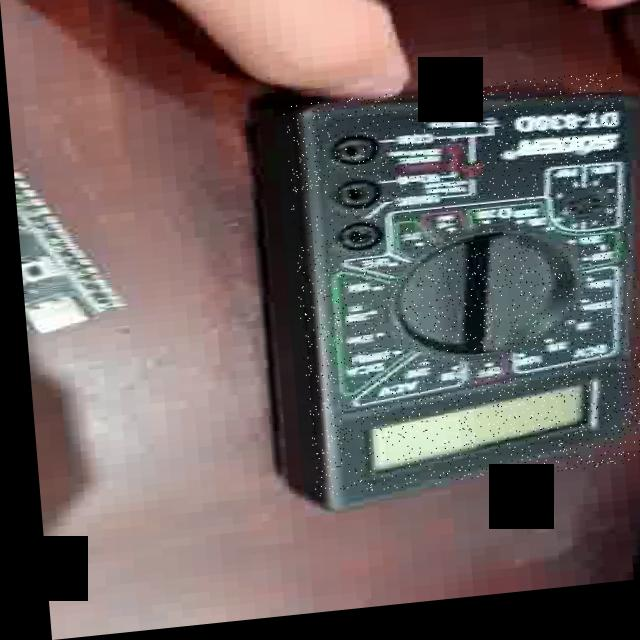multimeter: (280, 83, 640, 503)
